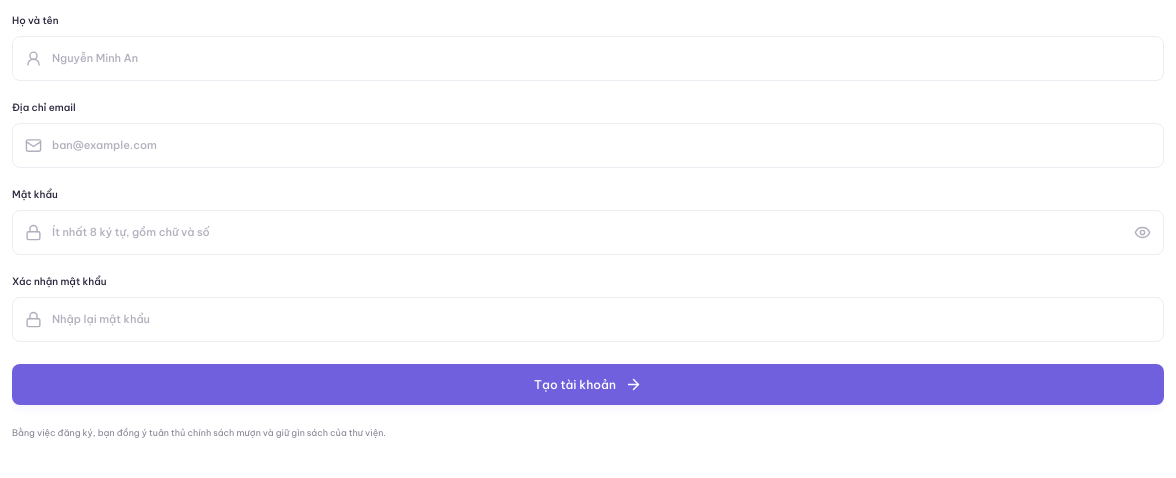
Test: Authentication form validation and failures › requires matching passwords at registration
The image size is (1176, 478).
Type "Minh An" into the field labelled "Họ và tên" at (602, 59), box [52,37,1151,80]
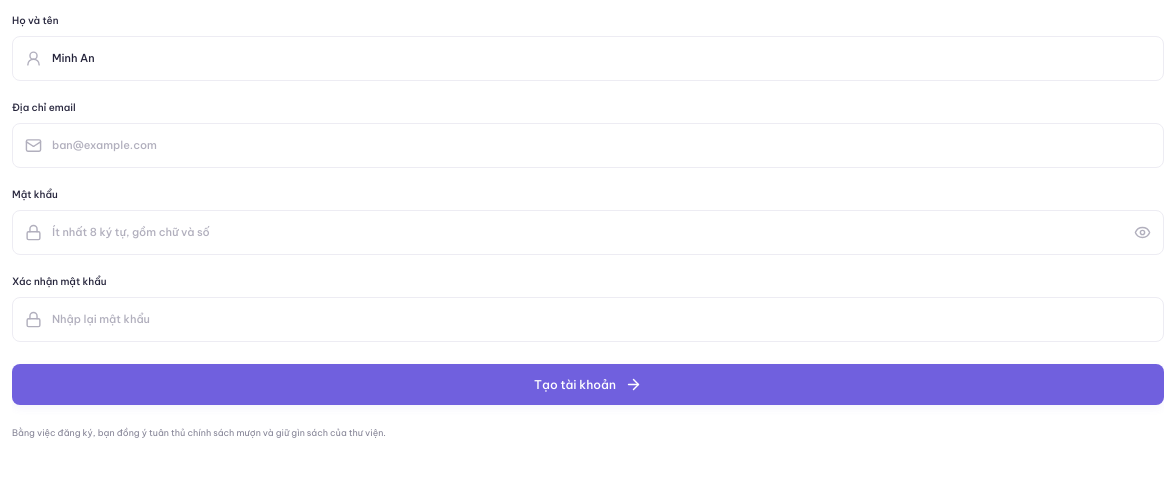
Type "an@example.com" into the field labelled "Địa chỉ email" at (602, 146), box [52,124,1151,167]
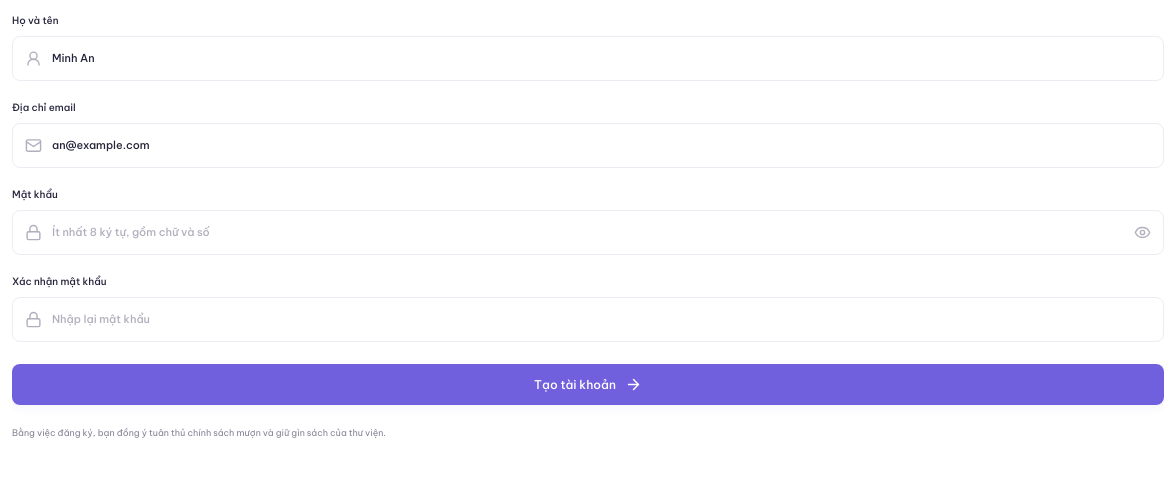
Type "Password123" into the password field labelled "Mật khẩu" at (588, 233), box [52,211,1124,254]
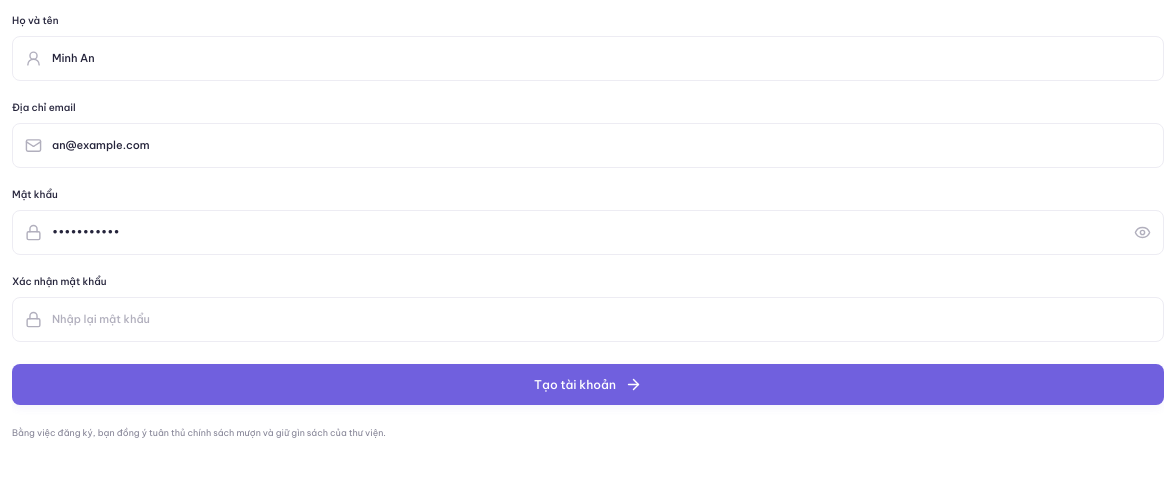
Type "Mismatch123" into the password field labelled "Xác nhận mật khẩu" at (602, 320), box [52,298,1151,341]
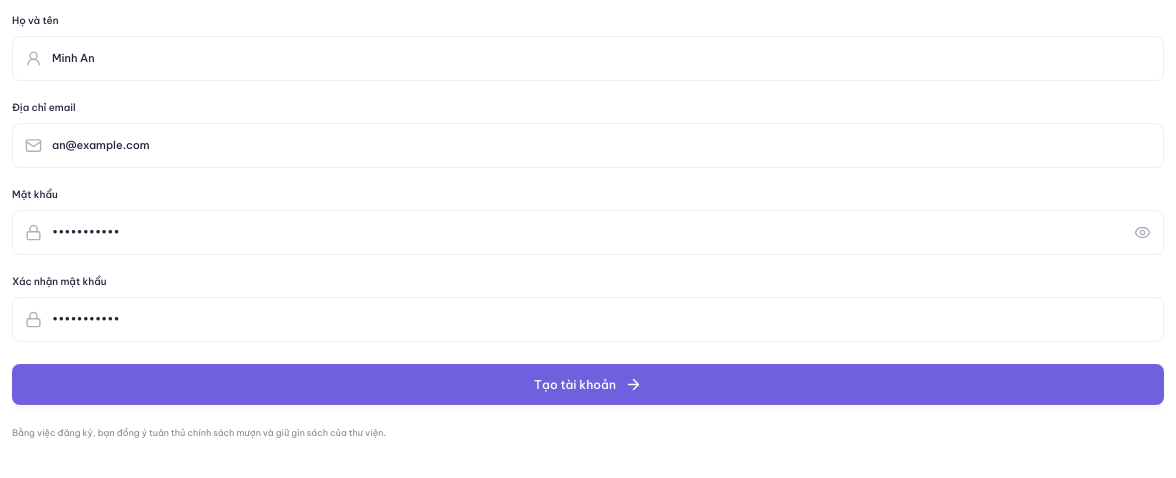
Click the button "Tạo tài khoản" at (588, 384), box [12,364,1164,405]
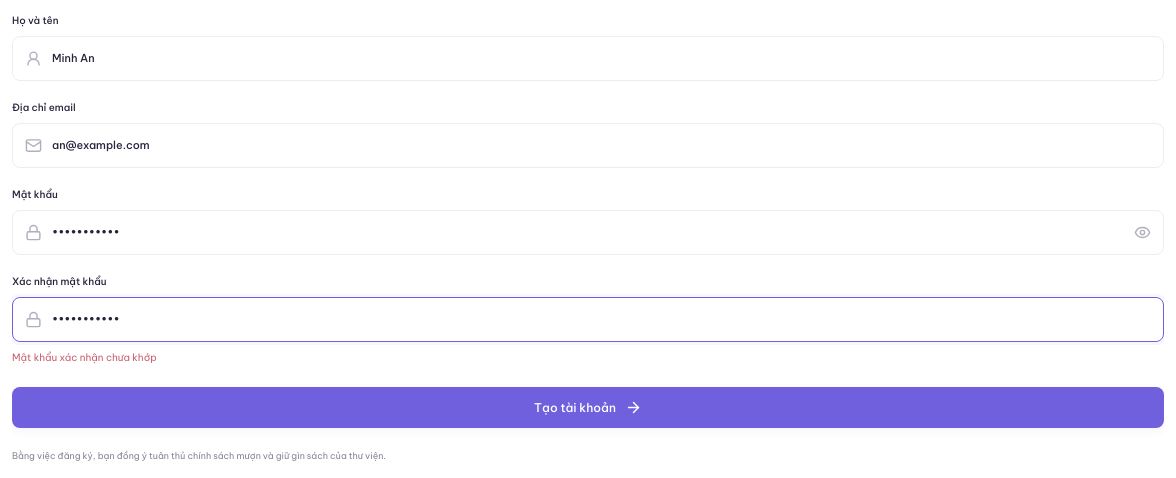
Expected: the text "Mật khẩu xác nhận chưa khớp" is shown, [12,351,157,364]
